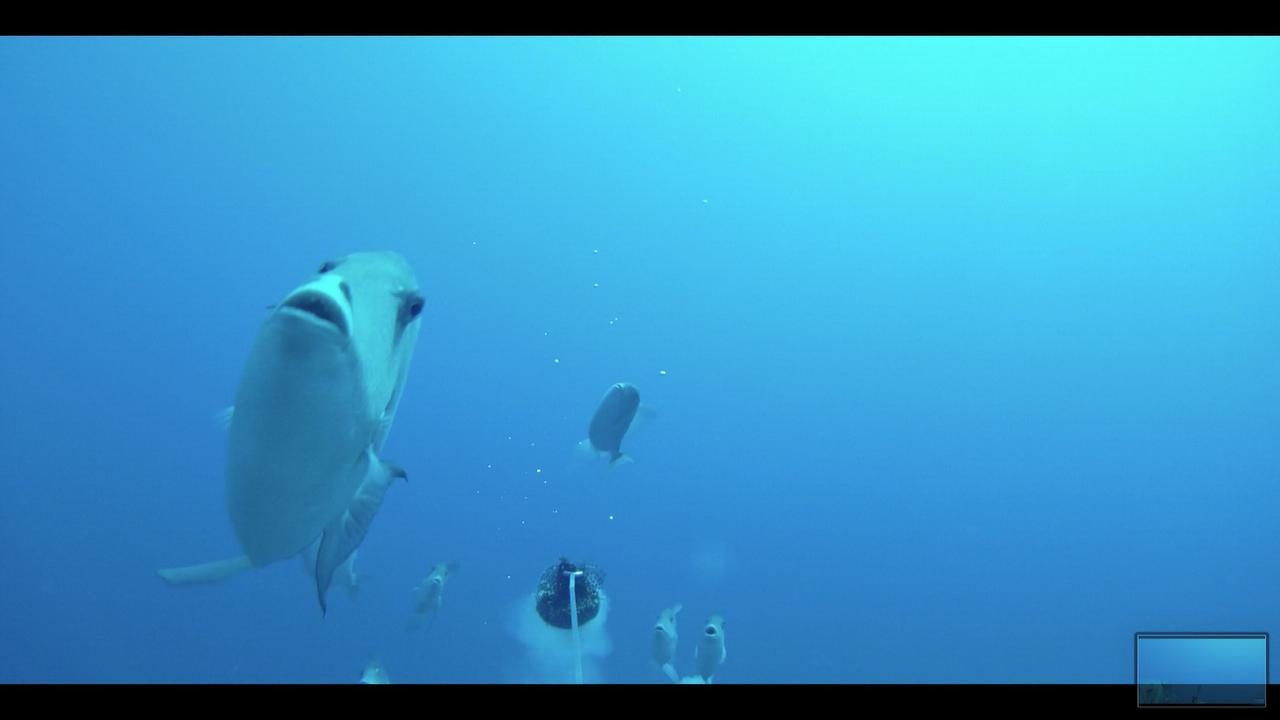balistes: (158, 212, 429, 621), (569, 374, 662, 476), (409, 549, 461, 623), (645, 596, 683, 679), (692, 607, 732, 681)
